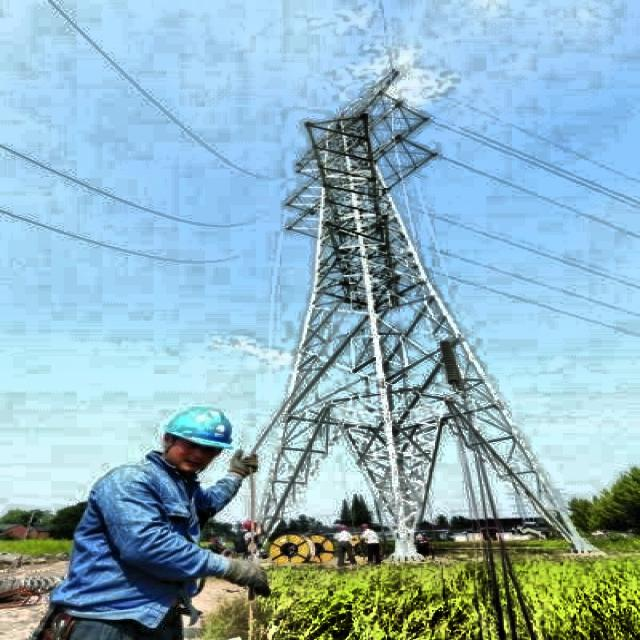helmet: (157, 404, 235, 473)
